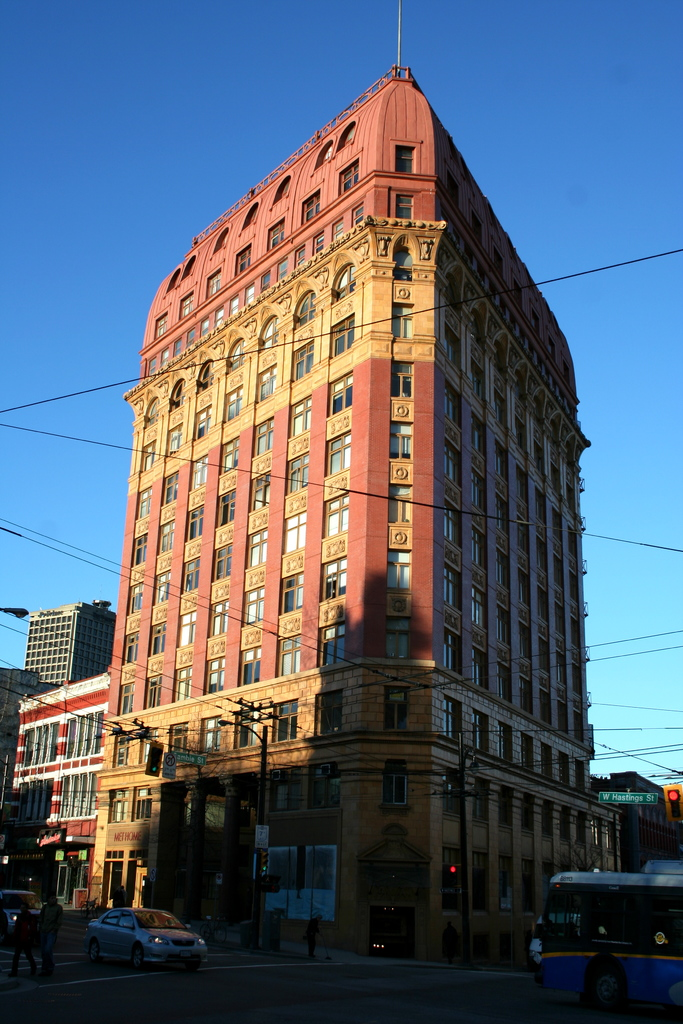Car: (67, 912, 203, 977), (0, 888, 42, 934)
